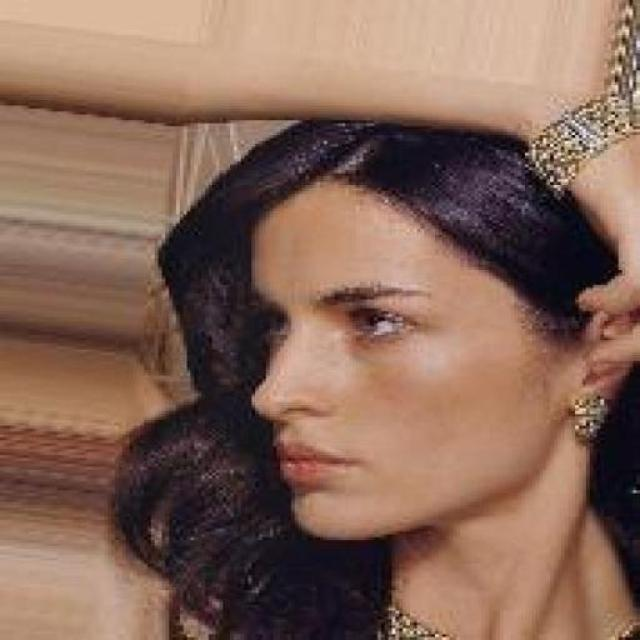bareface: (215, 154, 581, 576)
